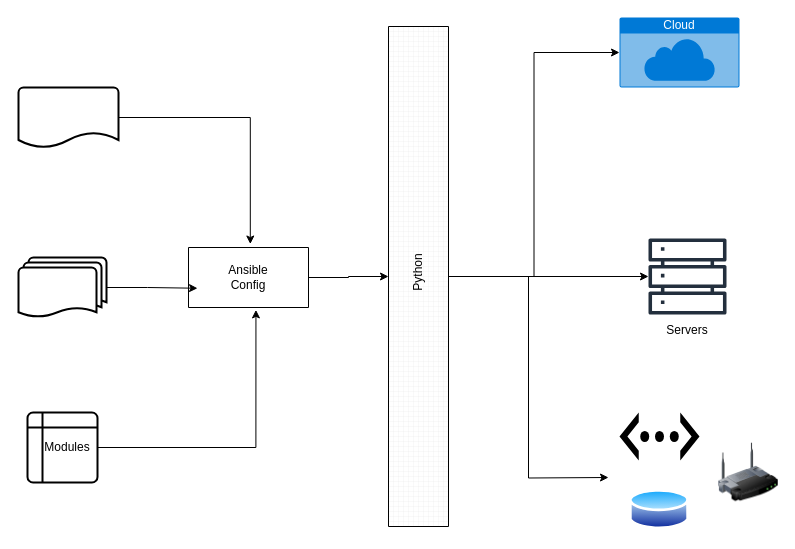
This 795x549 diagram has some shape labels left out. Each missing label, with the box of its shape:
Inventory: (17, 86, 119, 148)
PlayBooks: (17, 256, 107, 318)
